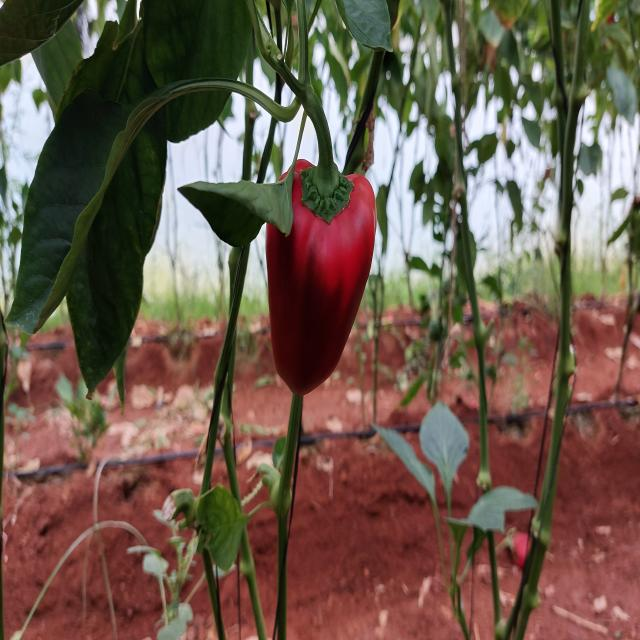Red-Ready-to-Harvest: (262, 137, 386, 406)
